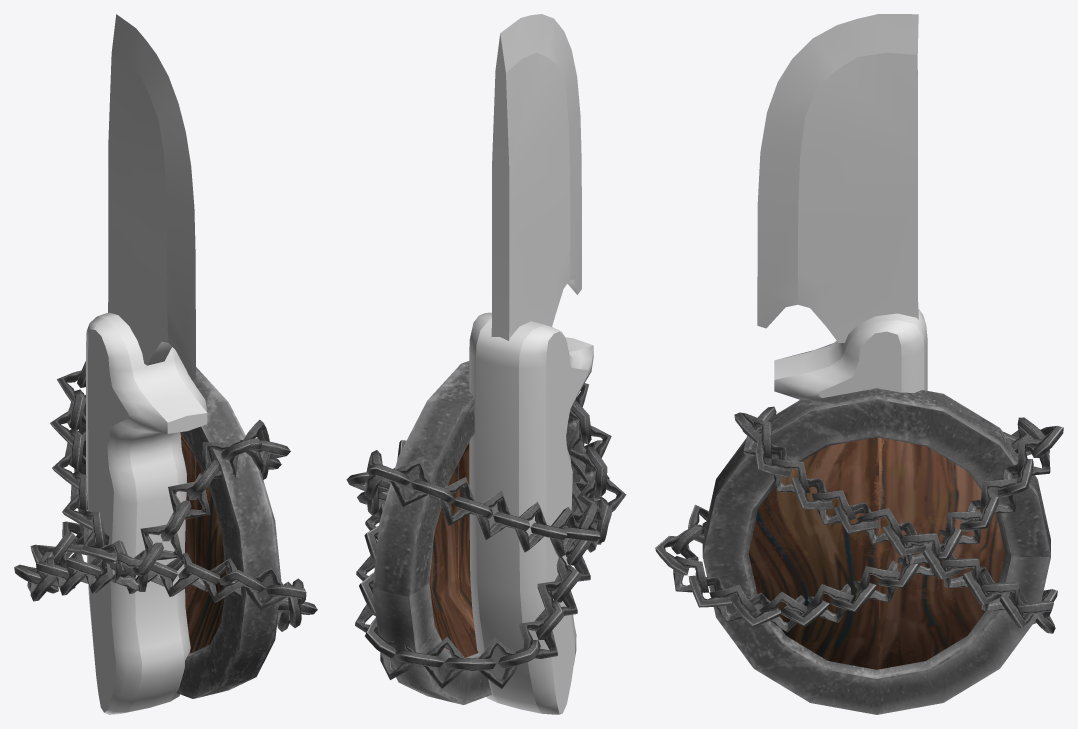
The model's file is KnifeWithShield(FixScale).fbx.
3 views of the same model, side by side, from view 1: azimuth 30°, elevation 25°; view 2: azimuth 150°, elevation 25°; view 3: azimuth 270°, elevation 25° (orthographic). The views are drawn at different scales.
Visible parts, largest first — view 1: KnifeWithShield; view 2: KnifeWithShield; view 3: KnifeWithShield.
Boxes of the visible parts, left/top/right/bottom form: KnifeWithShield: left=14, top=14, right=317, bottom=714; KnifeWithShield: left=346, top=14, right=626, bottom=714; KnifeWithShield: left=655, top=14, right=1063, bottom=714.
Bounding box in the file's own units: 129 × 423 × 228.
